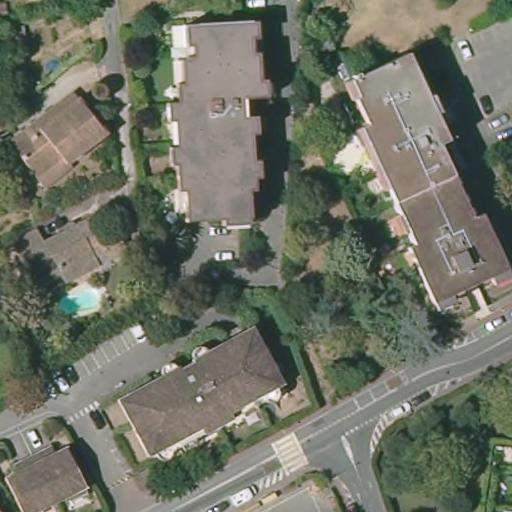pool: (46, 286, 106, 320)
